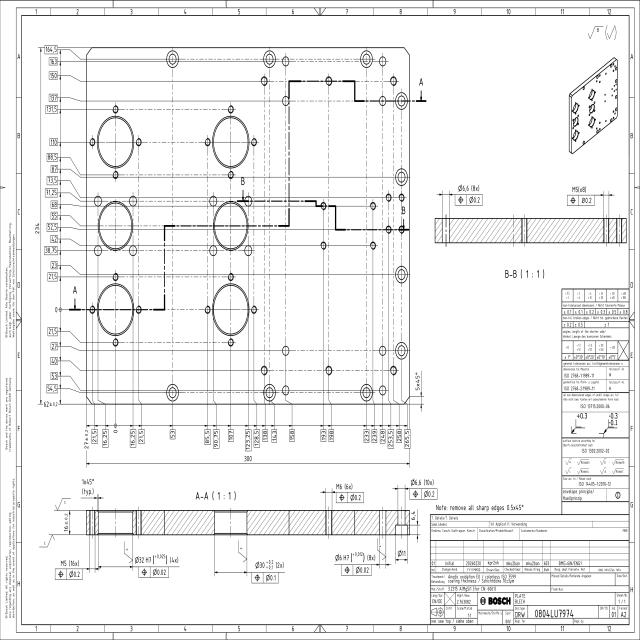dimension: (334, 550, 376, 563), (134, 554, 179, 566), (255, 557, 285, 571), (81, 477, 95, 496), (410, 478, 435, 488), (458, 183, 480, 193), (402, 428, 411, 450), (571, 184, 588, 195), (60, 559, 80, 568), (336, 482, 354, 492), (212, 428, 220, 450), (245, 428, 252, 452), (387, 428, 394, 450), (204, 428, 211, 450), (253, 428, 260, 449), (102, 428, 109, 449), (62, 512, 68, 534), (45, 384, 58, 394), (288, 428, 296, 444), (415, 371, 421, 392), (130, 428, 136, 449), (46, 176, 58, 186), (46, 222, 58, 232), (91, 428, 98, 445), (45, 44, 58, 53), (45, 105, 58, 114), (45, 188, 58, 197), (45, 246, 58, 255), (84, 428, 89, 451), (396, 428, 403, 444), (379, 428, 386, 444), (364, 428, 371, 444), (320, 428, 327, 444), (271, 428, 278, 444), (47, 152, 58, 162), (47, 272, 58, 282), (138, 428, 144, 445), (48, 56, 58, 66), (47, 328, 58, 337), (44, 401, 58, 408), (372, 428, 378, 444), (328, 428, 334, 444), (262, 428, 268, 444), (228, 428, 234, 444), (169, 428, 176, 441), (49, 70, 58, 80), (34, 221, 40, 235), (50, 234, 58, 244), (50, 356, 58, 366), (396, 550, 406, 558), (49, 94, 58, 102), (49, 138, 58, 146), (50, 164, 58, 173), (50, 200, 58, 209), (50, 261, 58, 270), (50, 342, 58, 351), (50, 372, 58, 381), (244, 454, 252, 463), (410, 510, 416, 522), (50, 212, 58, 220)
